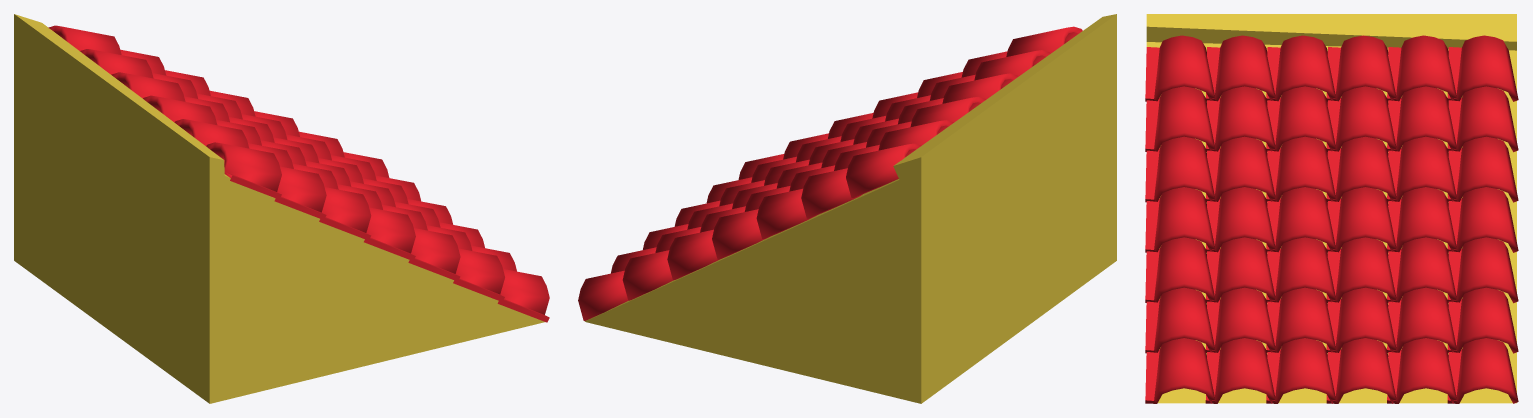
The model's file is TejadoDe1.fbx.
The picture shows the model from 3 angles, left to right: view 1: azimuth 30°, elevation 25°; view 2: azimuth 150°, elevation 25°; view 3: azimuth 270°, elevation 25°; orthographic projection. The views are drawn at different scales.
Visible parts, largest first — view 1: Cube.002, Tejado.006; view 2: Cube.002, Tejado.006; view 3: Tejado.006, Cube.002.
Part boxes in pixels (x1=…): Cube.002: x1=14, y1=14, x2=544, y2=403; Tejado.006: x1=48, y1=25, x2=549, y2=322; Cube.002: x1=584, y1=14, x2=1116, y2=403; Tejado.006: x1=578, y1=26, x2=1082, y2=320; Tejado.006: x1=1145, y1=35, x2=1518, y2=403; Cube.002: x1=1146, y1=14, x2=1516, y2=403.
Size of the model in its own units: 398 by 268 by 386.
